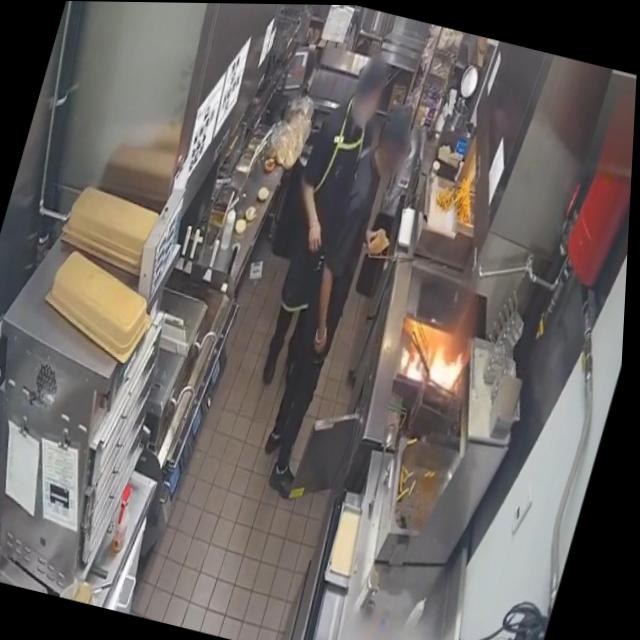fire: (403, 332, 477, 394)
